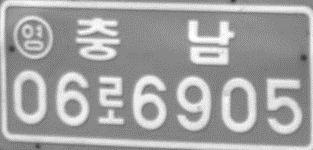0: (220, 75, 258, 135), (11, 69, 49, 125)
5: (264, 77, 304, 135)
6: (53, 70, 91, 128), (130, 73, 167, 131)
9: (174, 74, 212, 132)
로: (95, 75, 127, 126)
영: (12, 14, 54, 60)
충남_D: (74, 16, 234, 65)
